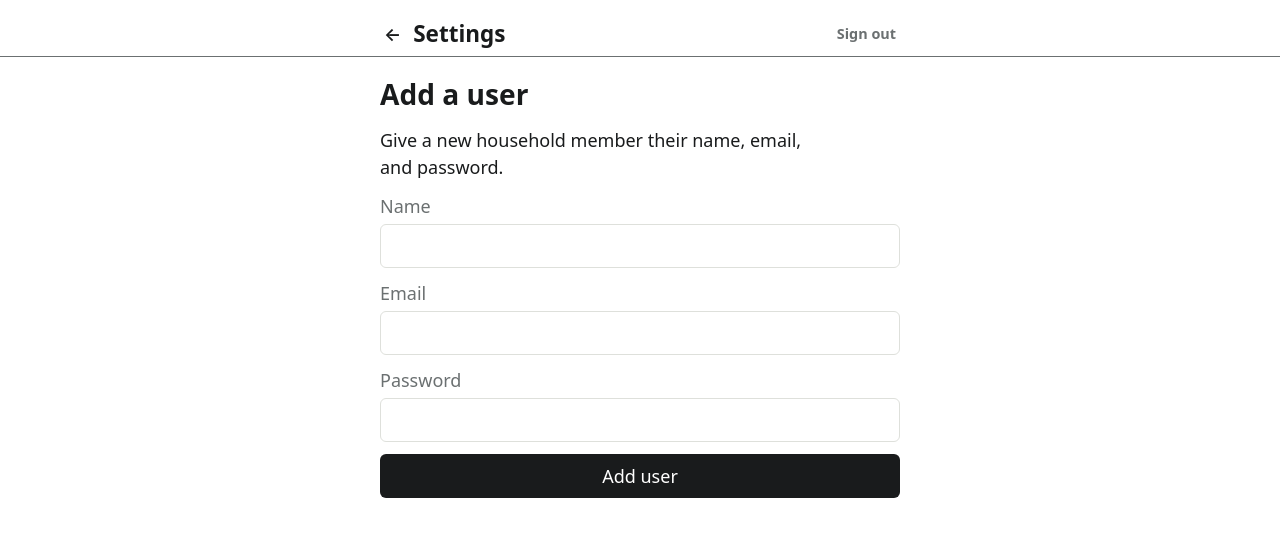
Test case: SettingsView › shows the Add-a-user form to the Admin and posts it on submit
Expected: the element named "Add a user" is shown, [380,57,900,514]
Type "Partner" into the field named "add-user-name" at (640, 246), box [380,224,900,268]
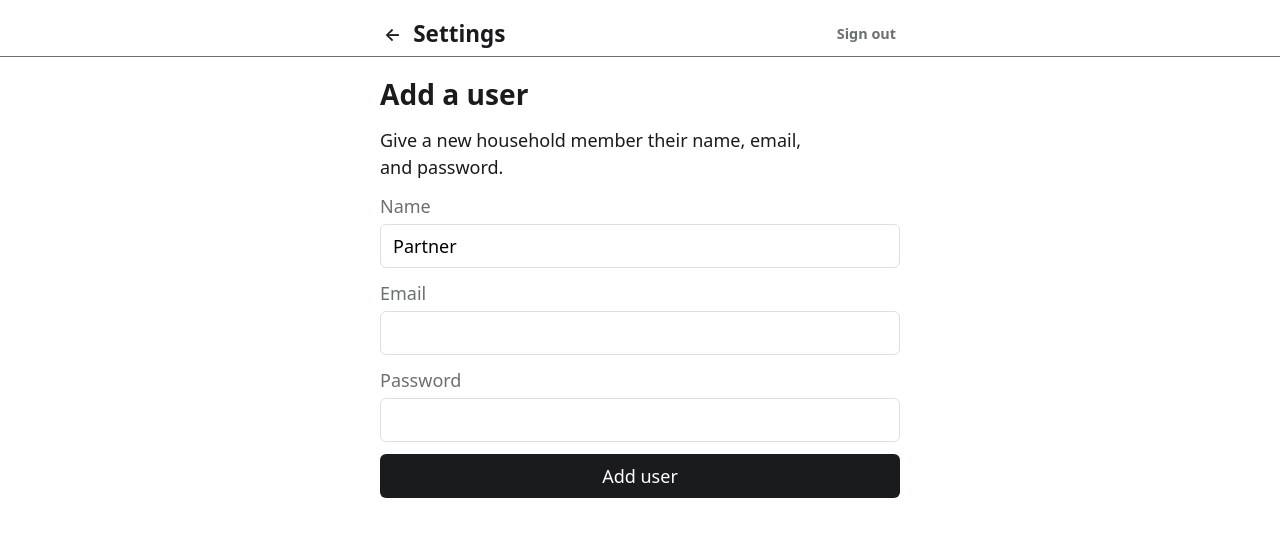
Type "partner@example.com" into the field named "add-user-email" at (640, 333), box [380,311,900,355]
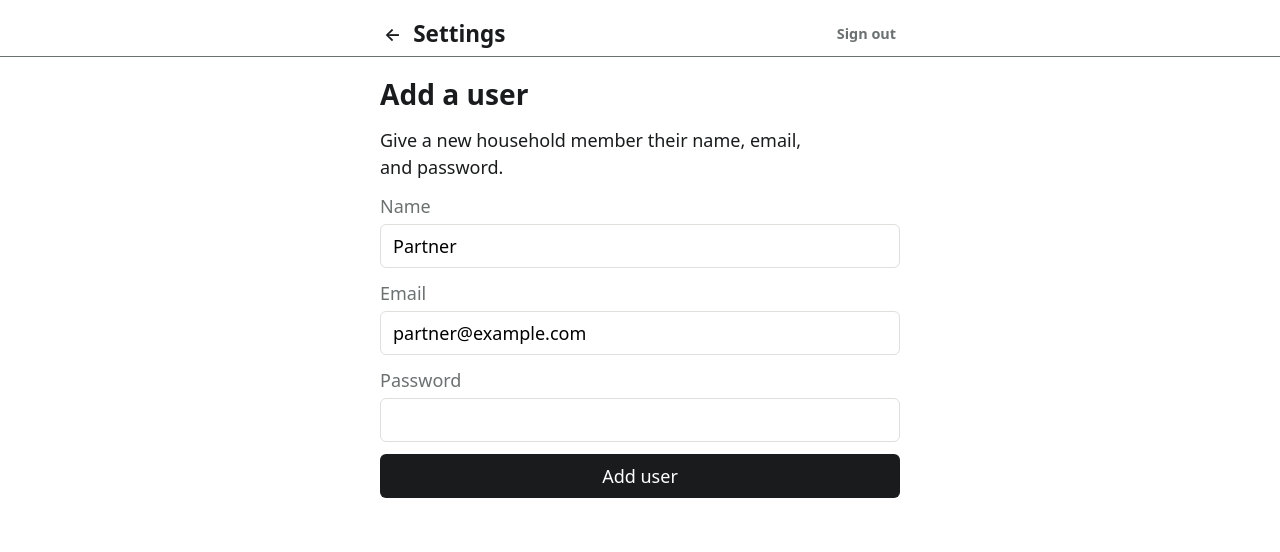
Type "password-123" into the password field named "add-user-password" at (640, 420), box [380,398,900,442]
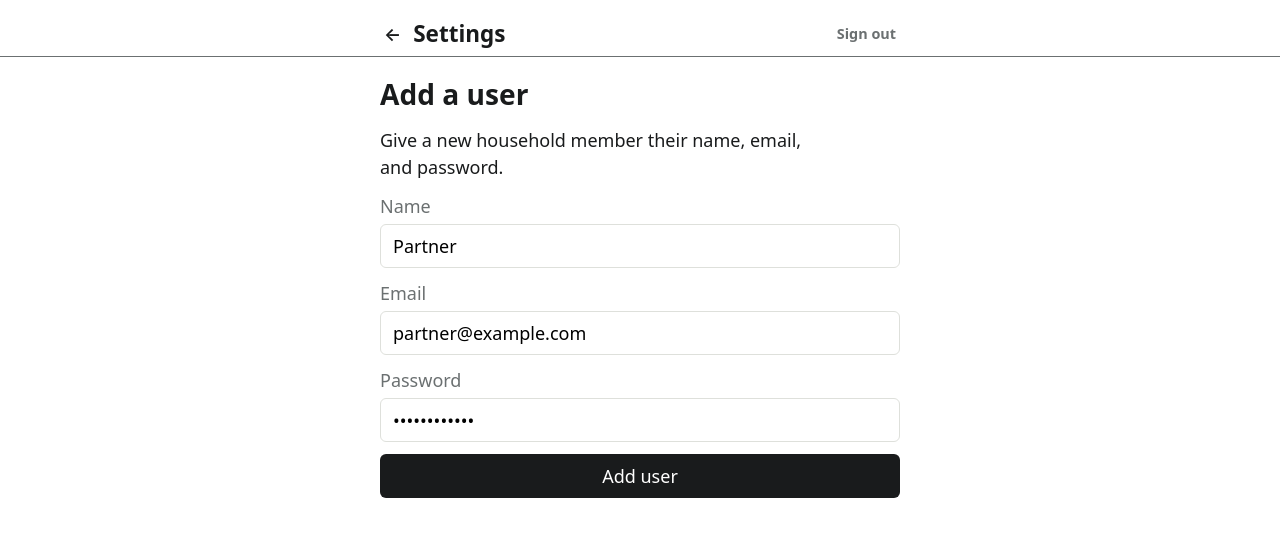
Submit the form, box [380,193,900,498]
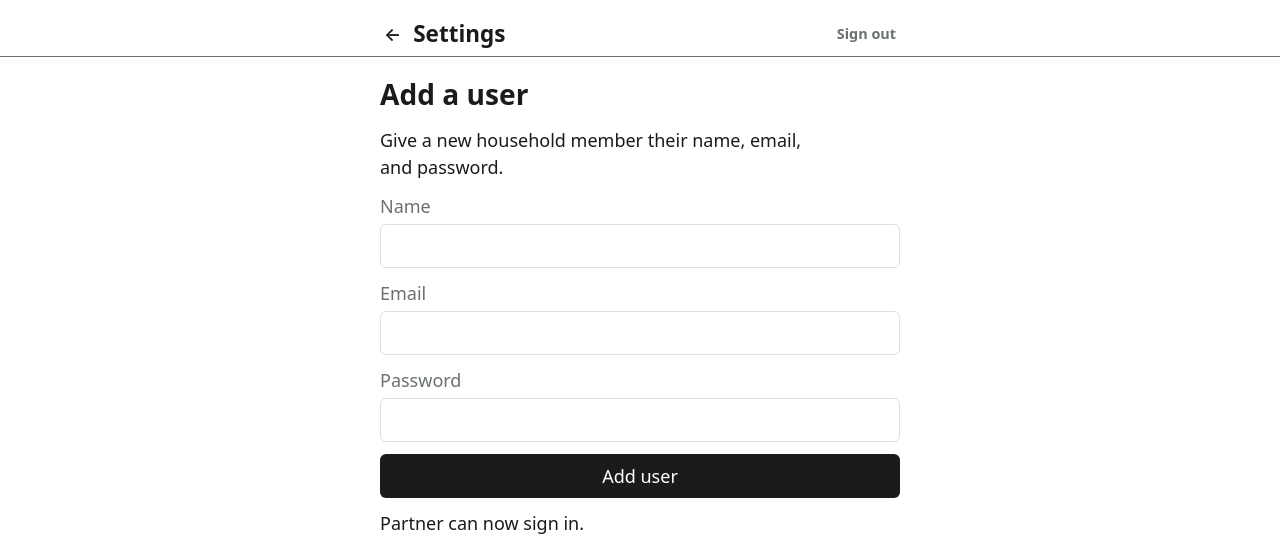
Expected: the text "Partner can now sign in." is shown, [380,511,584,535]
